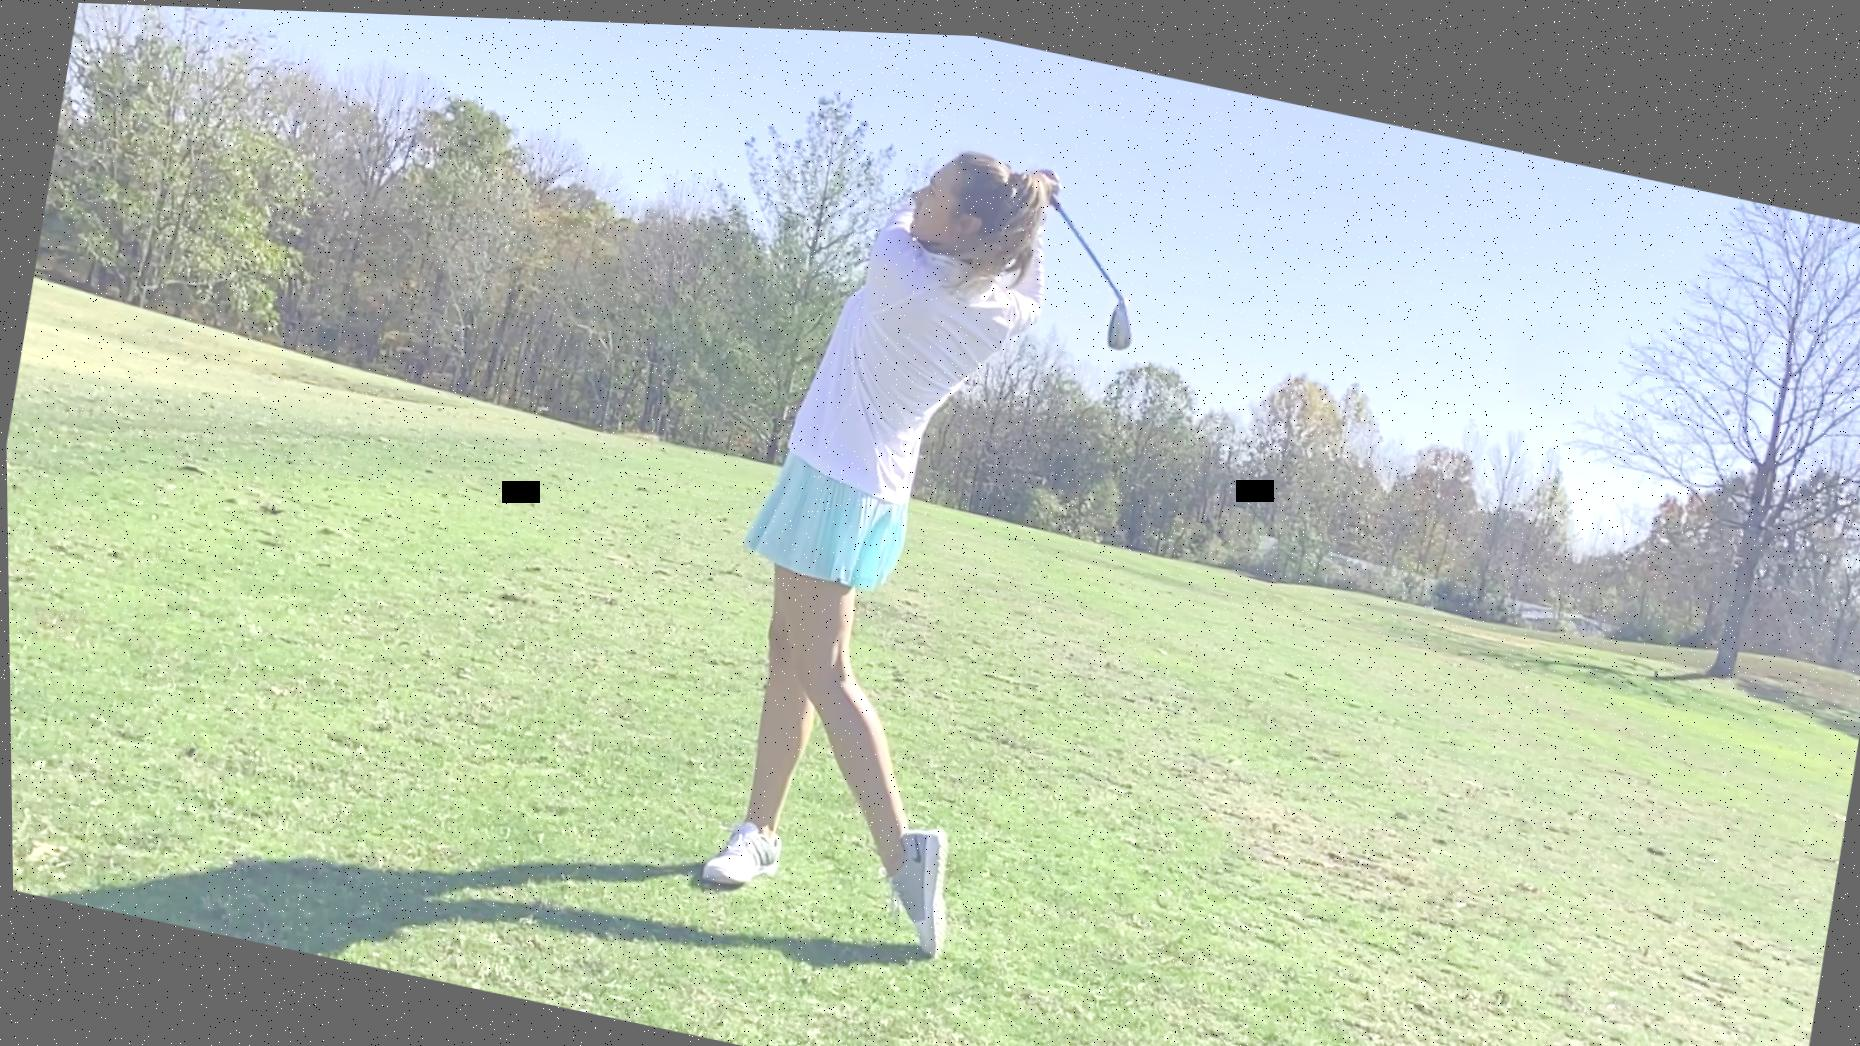ClubHead: (1096, 273, 1142, 349)
